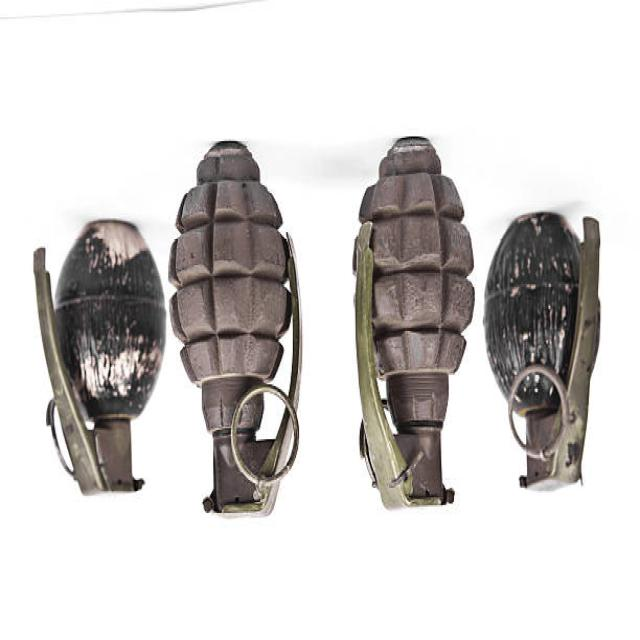grenade: (166, 137, 310, 528), (351, 134, 477, 515), (34, 213, 169, 504), (483, 209, 606, 499)
